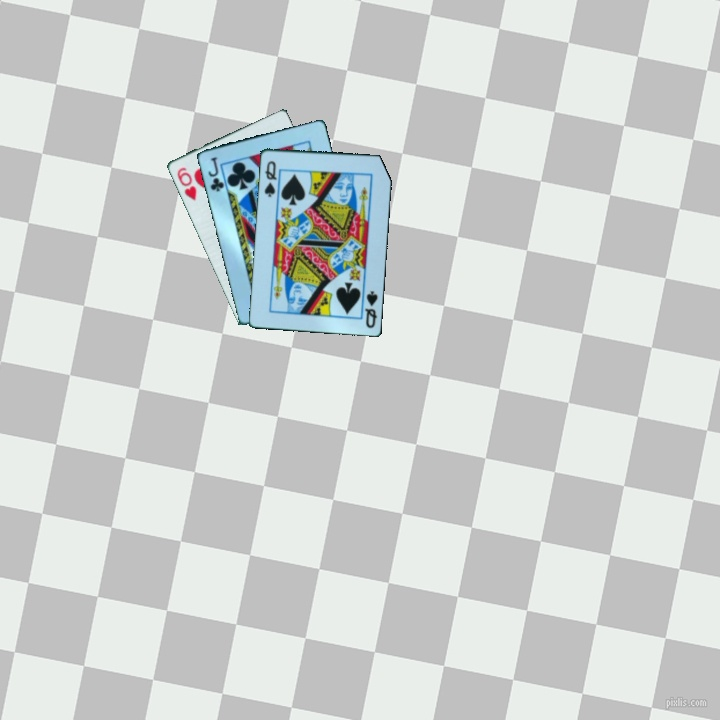6h: (173, 164, 199, 204)
Jc: (204, 153, 226, 195)
Qs: (361, 287, 380, 331), (261, 157, 279, 199)
